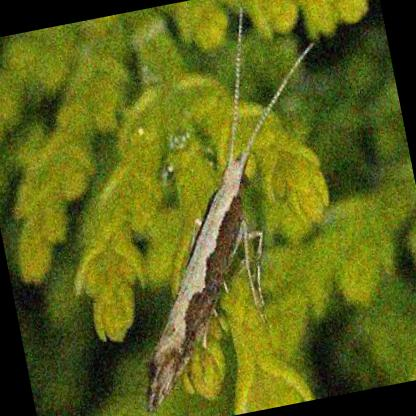plutella: (139, 0, 323, 416)
